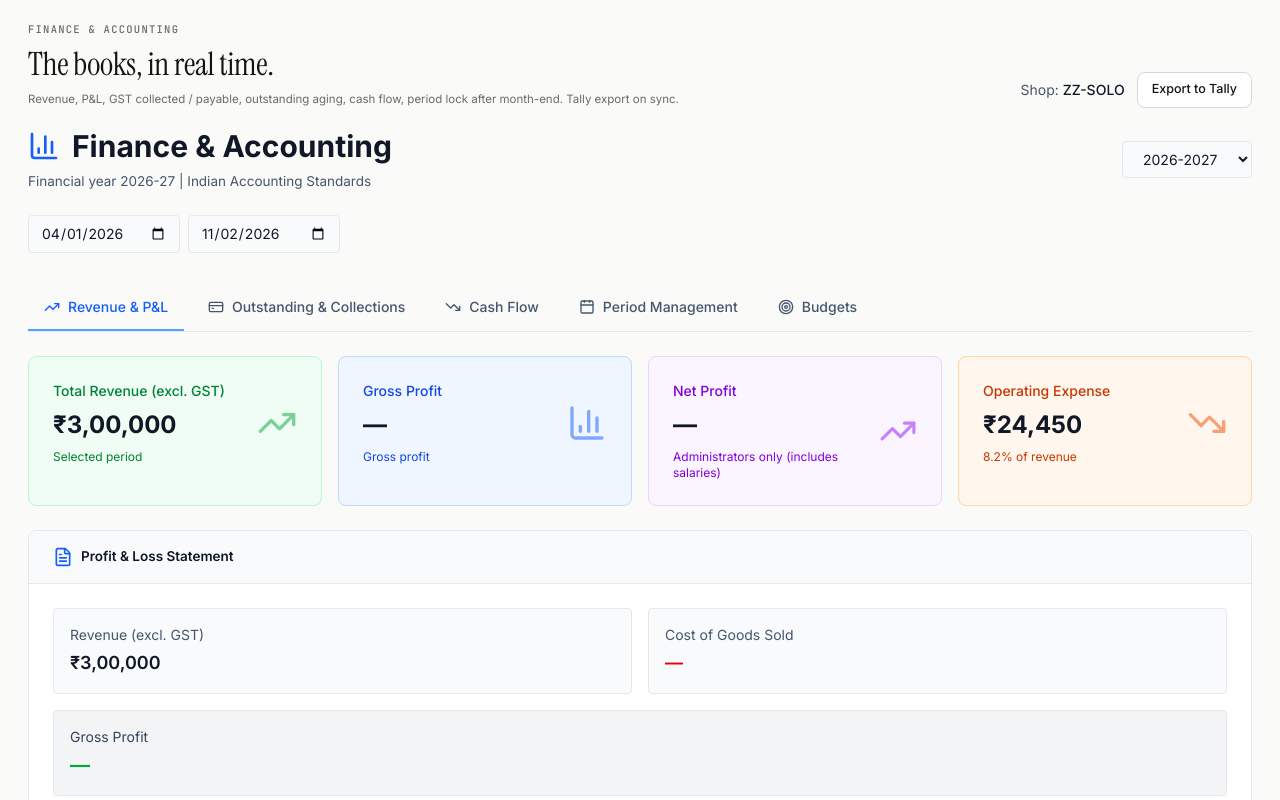
Scenario: FinanceDashboard cash flow tab - the short outflow declares itself › shows the banner when outflows were stripped
Click the button "Cash Flow". click: (492, 308)
box: [429,285,555,331]
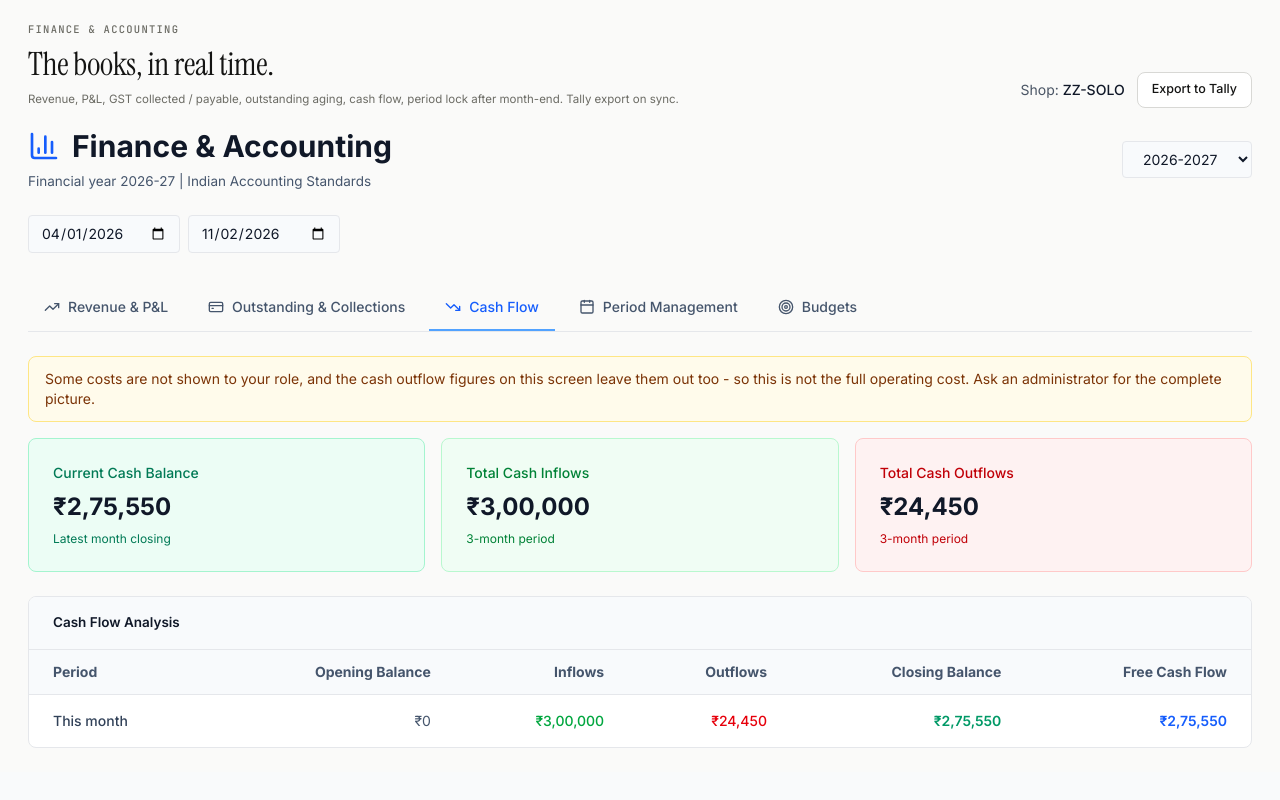
Result: the message with test id "restricted-totals-notice" shows "not the full operating cost" at [45,370,1222,407]
Result: the message with test id "restricted-totals-notice" shows "cash outflow figures" at [361,370,496,387]
